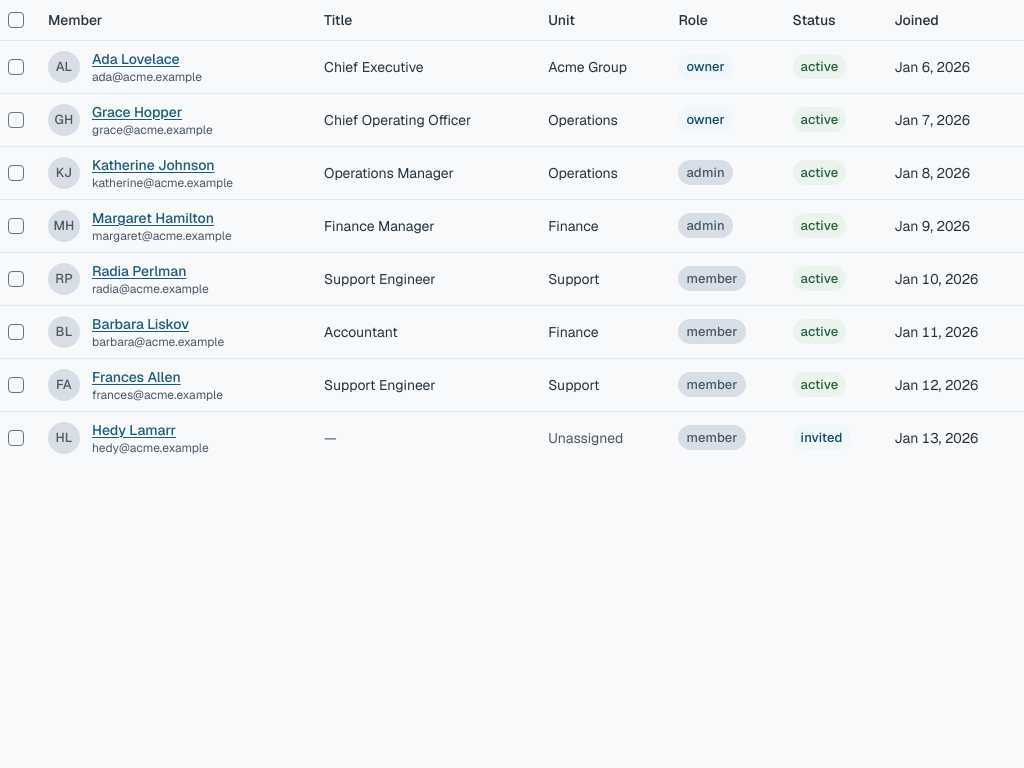
Test: PeopleView › selects everyone on the page from the header checkbox
Click the checkbox named "Select everyone on this page".
click(16, 20)  # box [8,12,24,28]
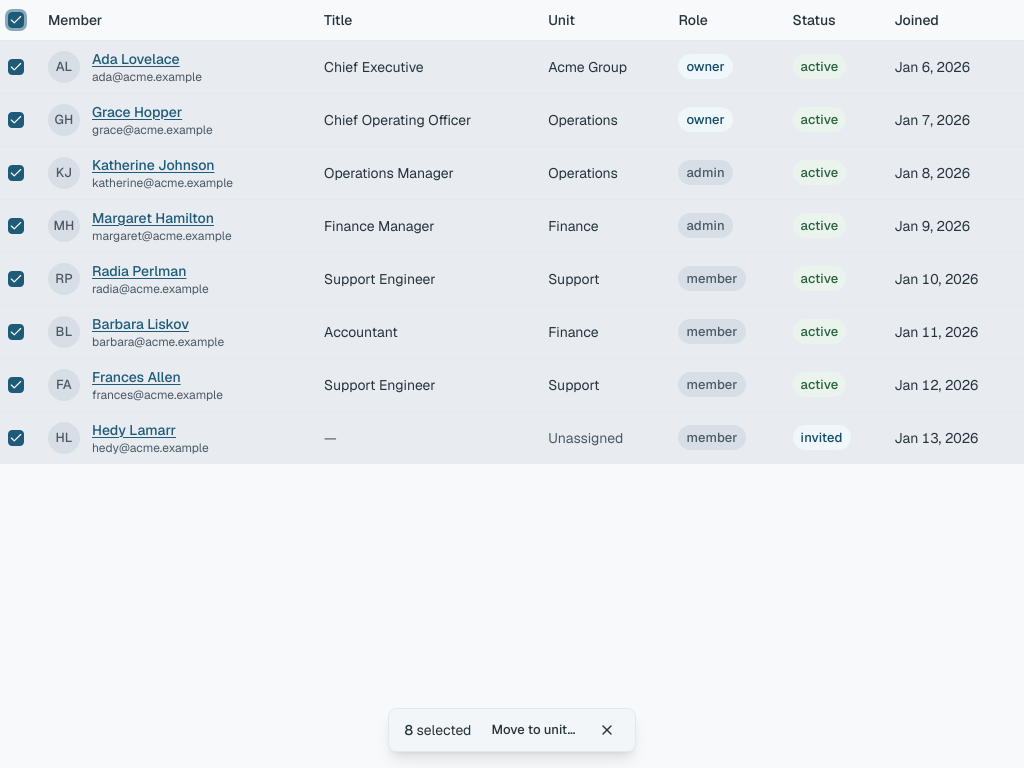
Expected: the checkbox named "Select Hedy Lamarr" is checked, [8,430,24,446]
